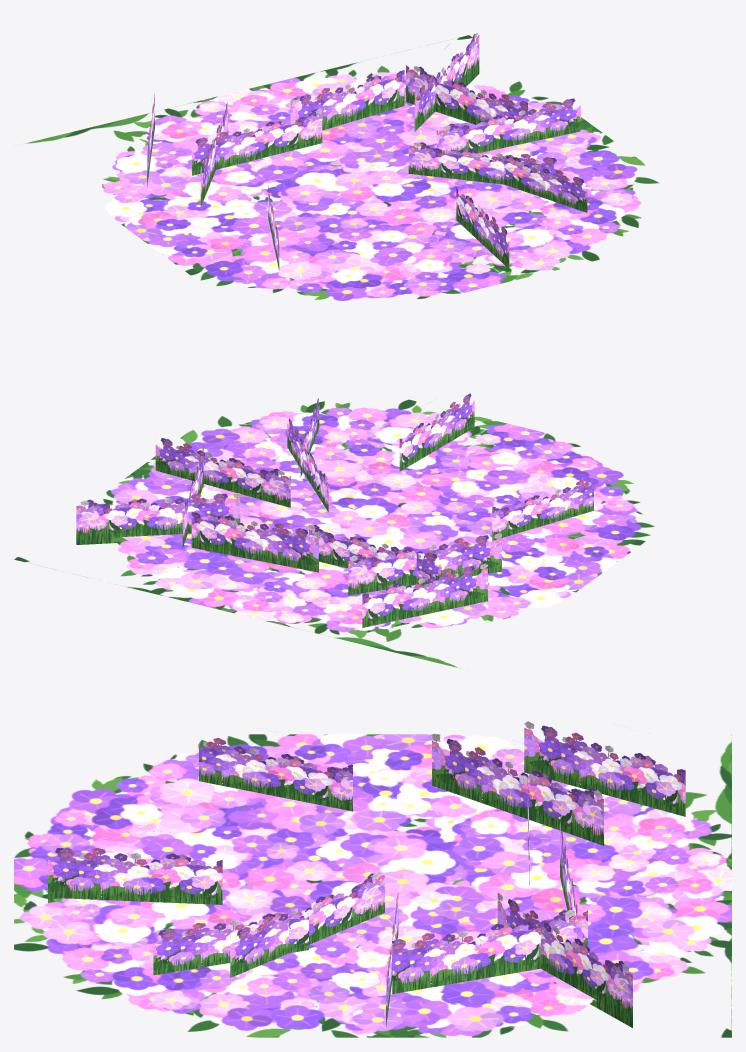
The model's file is flower_clump_a.glb.
The picture shows the model from 3 angles, top to bottom: view 1: azimuth 30°, elevation 25°; view 2: azimuth 150°, elevation 25°; view 3: azimuth 270°, elevation 25°; orthographic projection. The views are drawn at different scales.
Visible parts, largest first — view 1: main; view 2: main; view 3: main.
Part boxes in pixels (<box>): main: <box>22,32,658,300</box>; main: <box>14,393,654,668</box>; main: <box>14,721,731,1037</box>.
Bounding box in the file's own units: 10 × 1.31 × 10.
1 material, 1 textured.
